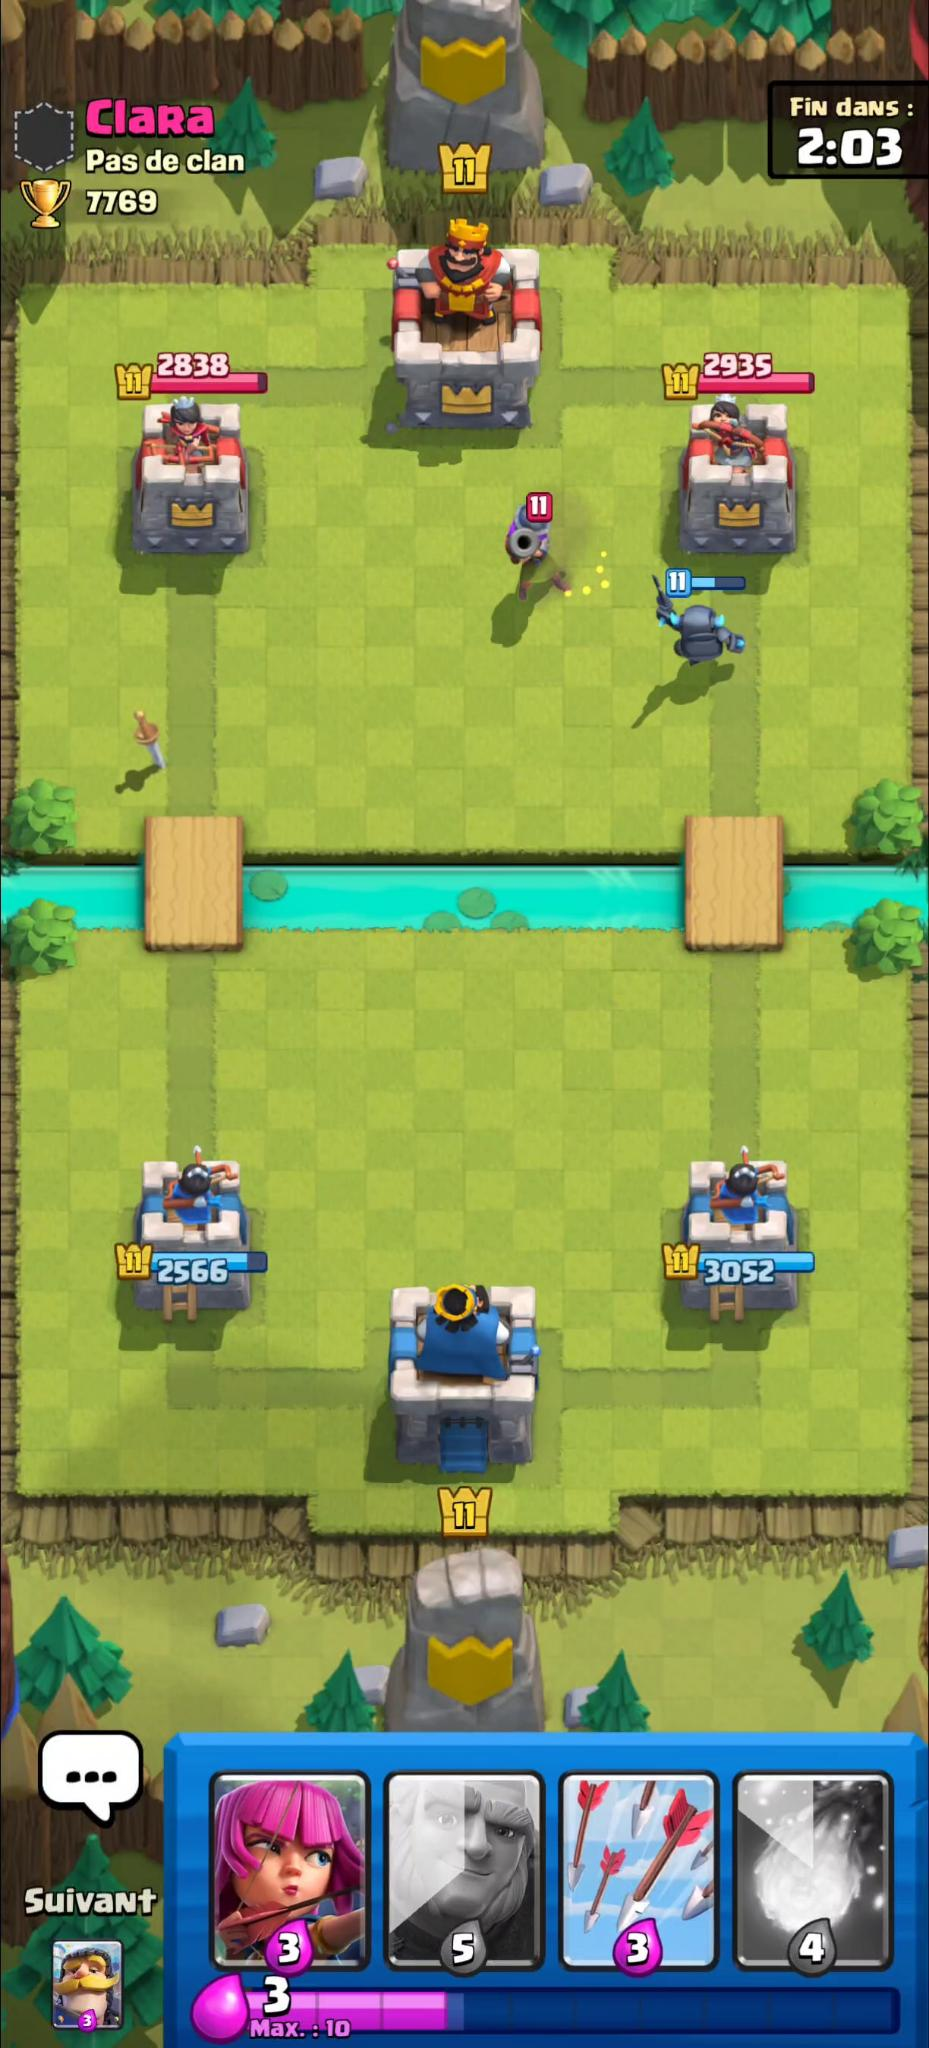mini_PEKKA: (649, 572, 749, 670)
mousquetaire: (507, 503, 578, 601)
